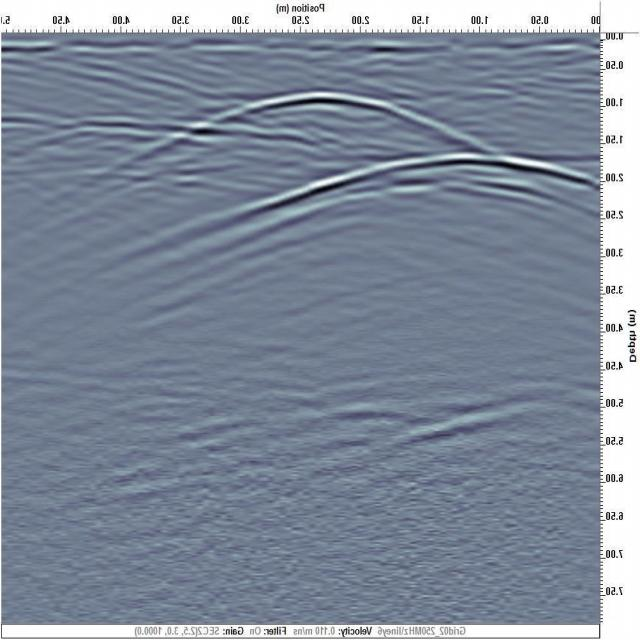hyperbola: (247, 136, 594, 224), (158, 78, 475, 151)
